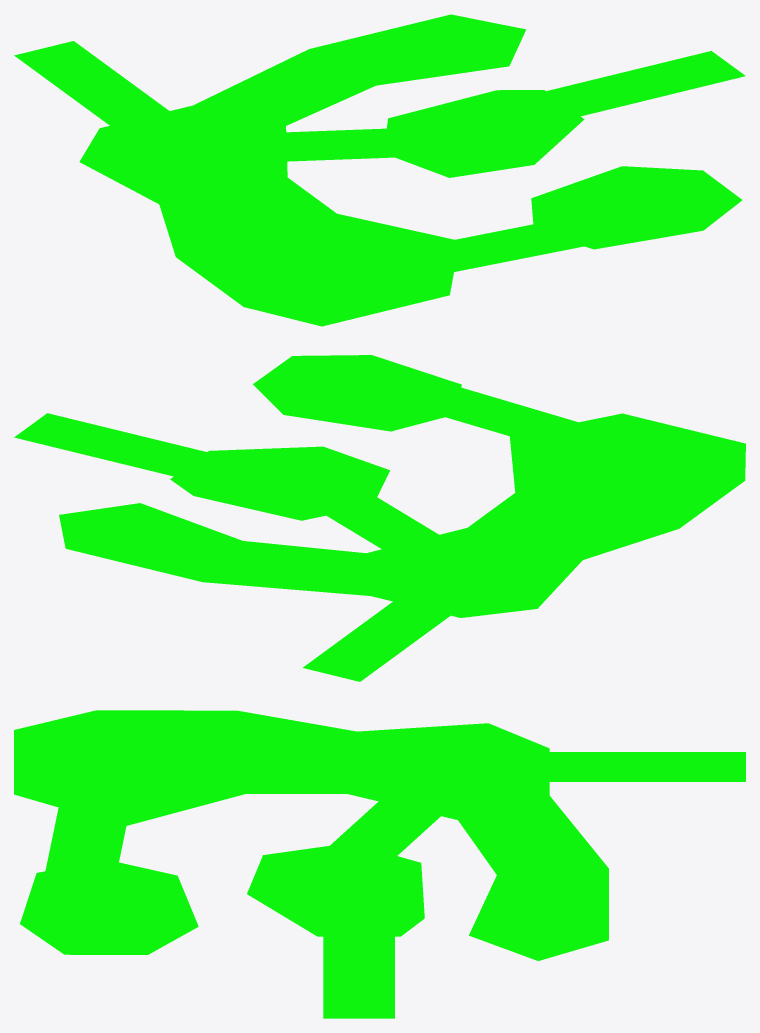
File: s05b_lc2-floor.glb
3 views of the same model, one above another, from view 1: azimuth 30°, elevation 25°; view 2: azimuth 150°, elevation 25°; view 3: azimuth 270°, elevation 25° (orthographic). The views are drawn at different scales.
Visible parts, largest first — view 1: collision_floor-colonly; view 2: collision_floor-colonly; view 3: collision_floor-colonly.
Boxes of the visible parts, <box> form: collision_floor-colonly: <box>14,14,745,326</box>; collision_floor-colonly: <box>14,355,745,681</box>; collision_floor-colonly: <box>14,710,745,1018</box>.
Bounding box in the file's own units: 61.47 × 0.1016 × 61.5.
